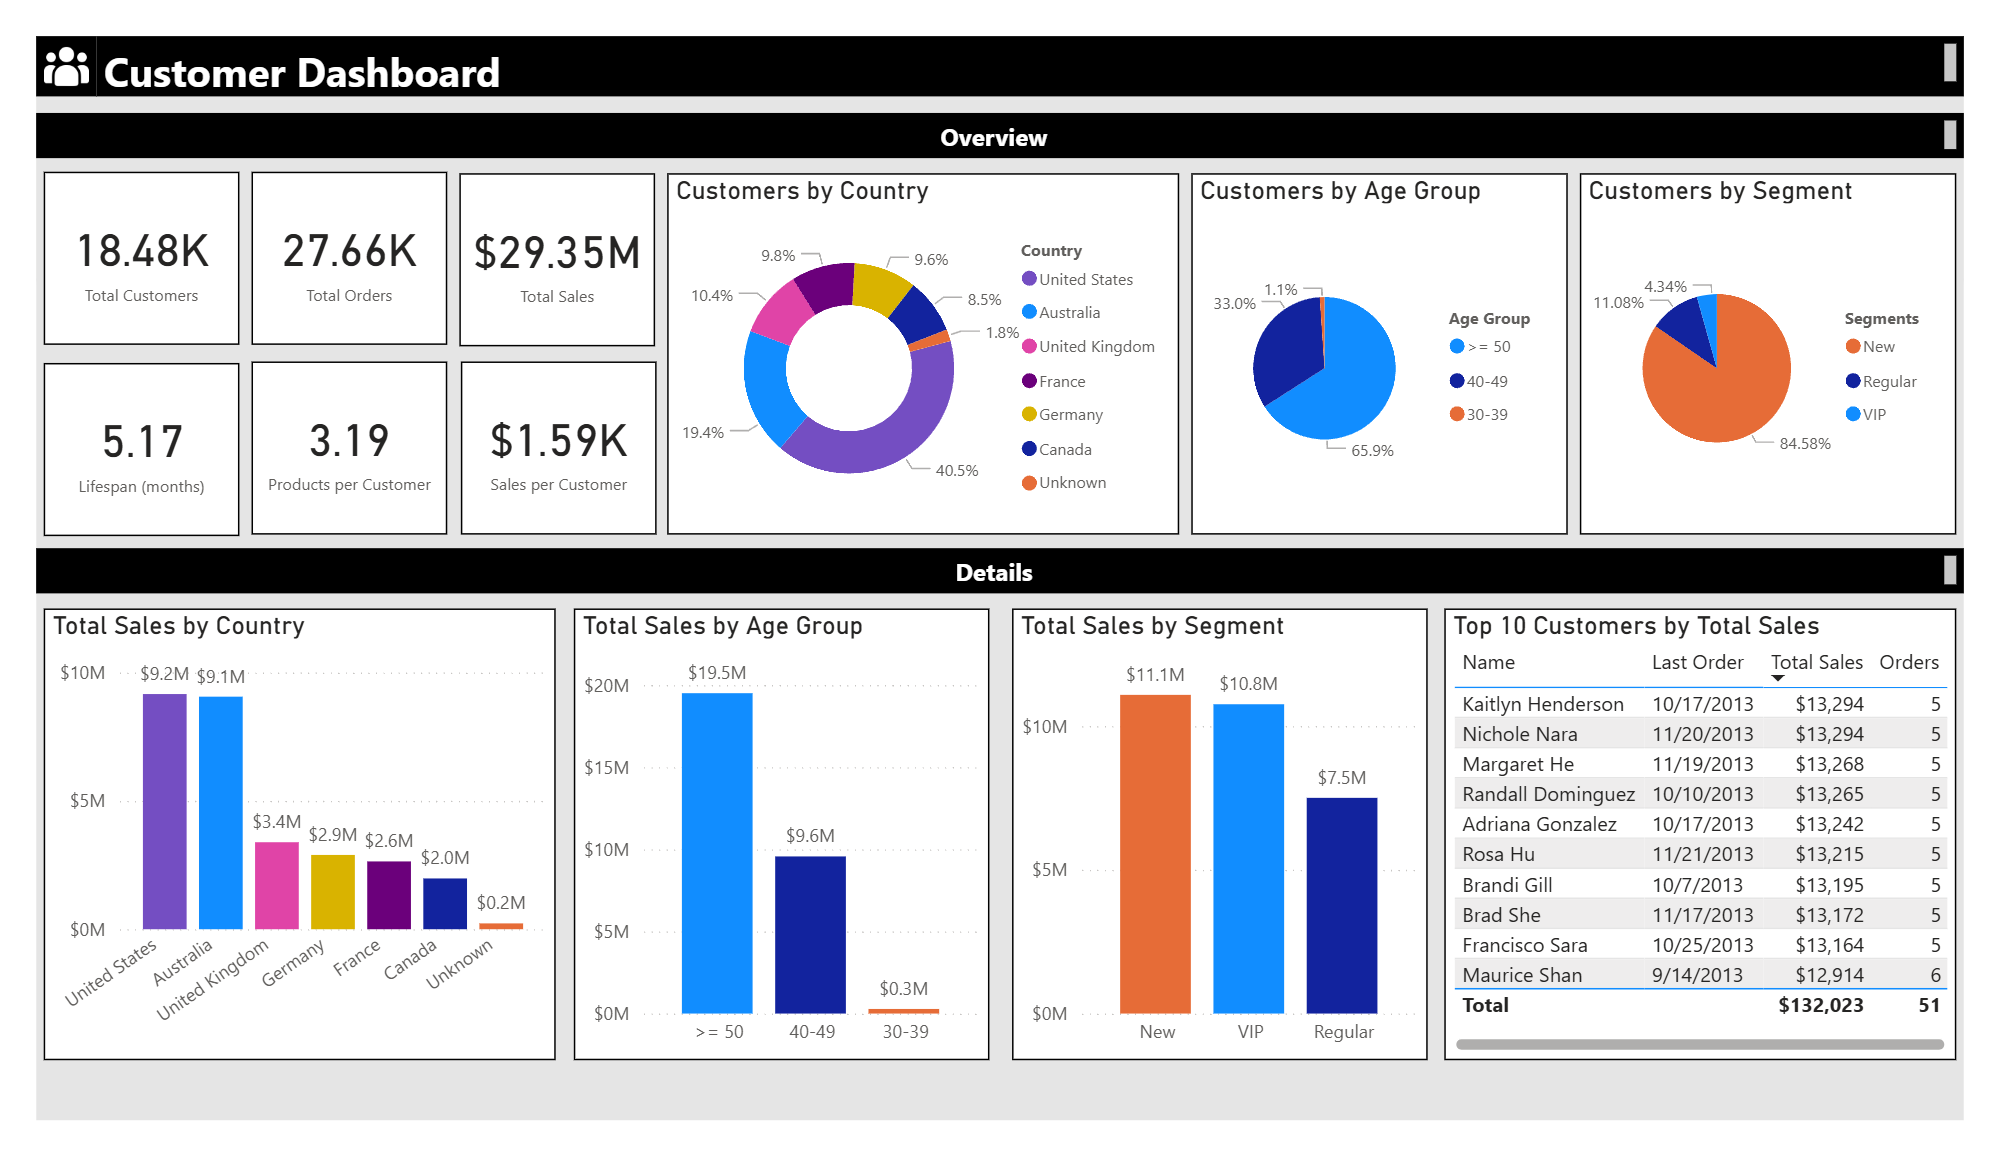

The dashboard page shown, as its layout file describes it:
{"tool":"powerbi","page":{"name":"Customer Dashboard","canvas":[1280,720],"ordinal":0},"visuals":[{"type":"textbox","box":[40.2,0,1239.8,40.2],"z":0},{"type":"columnChart","title":"Total Sales by Segment","fields":{"Category":["gold report_customers.customer_segment"],"Y":["gold report_customers.total_sales"]},"box":[648.4,379.8,275.5,300.1],"z":6000},{"type":"columnChart","title":"Total Sales by Country","fields":{"Y":["gold report_customers.total_sales"],"Category":["gold report_customers.country"]},"box":[5,380.3,340.1,300],"z":7000},{"type":"columnChart","title":"Total Sales by Age Group","fields":{"Y":["gold report_customers.total_sales"],"Category":["gold report_customers.age_group"]},"box":[357.1,379.8,275.5,300.1],"z":8000},{"type":"tableEx","title":"Top 10 Customers by Total Sales","fields":{"Values":["gold report_customers.customer_name","gold report_customers.last_order_date","gold report_customers.total_sales","gold report_customers.total_orders"]},"box":[935,380,340.1,300],"z":9000},{"type":"card","fields":{"Values":["gold report_customers.total_sales"]},"box":[280.8,90.5,130,115.1],"z":10000},{"type":"textbox","box":[0,50.8,1280,30],"z":11000},{"type":"card","fields":{"Values":["gold report_customers.lifespan"]},"box":[4.6,217.1,130.3,115],"z":12000},{"type":"pieChart","title":"Customers by Age Group","fields":{"Category":["gold report_customers.age_group"],"Y":["gold report_customers.customer_key"]},"box":[767.1,90.5,249.9,240.1],"z":13000},{"type":"textbox","box":[0,340,1280,30],"z":14000},{"type":"pieChart","title":"Customers by Segment","fields":{"Y":["gold report_customers.customer_key"],"Category":["gold report_customers.customer_segment"]},"box":[1025,90.5,250,240.1],"z":15000},{"type":"donutChart","title":"Customers by Country","fields":{"Category":["gold report_customers.country"],"Y":["gold report_customers.customer_key"]},"box":[418.8,90.5,340.4,240.1],"z":16000},{"type":"card","fields":{"Values":["gold report_customers.customer_key"]},"box":[5,90,130,115.1],"z":16062},{"type":"card","fields":{"Values":["gold report_customers.total_products"]},"box":[142.9,216,130.3,115.4],"z":16125},{"type":"card","fields":{"Values":["gold report_customers.total_orders"]},"box":[143,89.5,129.9,115.1],"z":16250},{"type":"card","fields":{"Values":["gold report_customers.total_sales"]},"box":[282.3,216,130,115],"z":16500},{"type":"image","box":[0,0,39.9,39.9],"z":16501}]}

Visuals, with their boxes on the page's 1280x720 design canvas (x1, y1, x2, y2). These are canvas units, not pixel positions in the 2000x1156 screenshot, which may show the page scaled, cropped or inside an application window:
textbox: <region>40, 0, 1280, 40</region>
"Total Sales by Segment" columnChart: <region>648, 380, 924, 680</region>
"Total Sales by Country" columnChart: <region>5, 380, 345, 680</region>
"Total Sales by Age Group" columnChart: <region>357, 380, 633, 680</region>
"Top 10 Customers by Total Sales" tableEx: <region>935, 380, 1275, 680</region>
card - gold report_customers.total_sales: <region>281, 90, 411, 206</region>
textbox: <region>0, 51, 1280, 81</region>
card - gold report_customers.lifespan: <region>5, 217, 135, 332</region>
"Customers by Age Group" pieChart: <region>767, 90, 1017, 331</region>
textbox: <region>0, 340, 1280, 370</region>
"Customers by Segment" pieChart: <region>1025, 90, 1275, 331</region>
"Customers by Country" donutChart: <region>419, 90, 759, 331</region>
card - gold report_customers.customer_key: <region>5, 90, 135, 205</region>
card - gold report_customers.total_products: <region>143, 216, 273, 331</region>
card - gold report_customers.total_orders: <region>143, 90, 273, 205</region>
card - gold report_customers.total_sales: <region>282, 216, 412, 331</region>
image: <region>0, 0, 40, 40</region>
